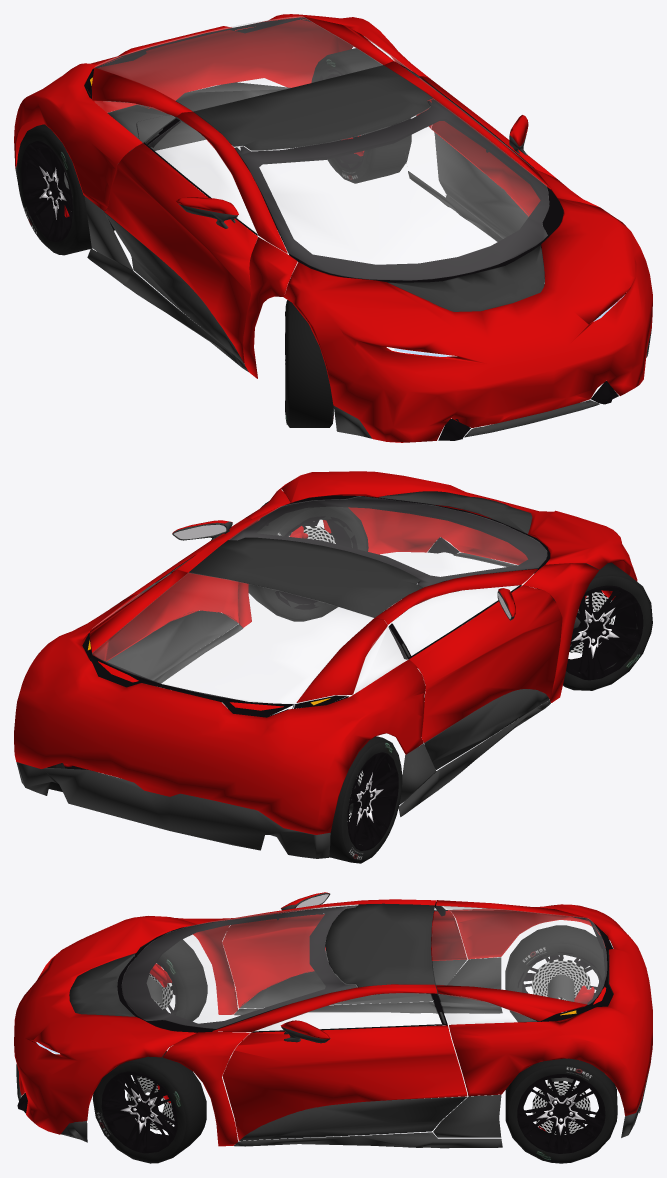
Rendered from verkehr.glb.
3 renders of one model, top to bottom at view 1: azimuth 30°, elevation 25°; view 2: azimuth 150°, elevation 25°; view 3: azimuth 270°, elevation 25°, orthographic. The views are drawn at different scales.
Parts seen in each view (by area): view 1: BodyHood, BodyWindshield, BodyRearPanelsColor1, BodyRearwindow, BodyDoorRColor1, BodyWindshieldGasket, BodyRoofPanel, BodyPanelsColor2, BodyPillars, BodyHoodTopgrill, object 42, BodyDoorLColor2 (+10 smaller); view 2: BodyRearPanelsColor1, BodyRearwindow, BodyWindshield, BodyPanelsColor2, BodyHood, BodyDoorRColor1, BodyRoofPanel, BodyPillars, BodyWindshieldGasket, WheelFrontRRim, BodyDoorLColor1, BodyDoorLColor2 (+10 smaller); view 3: BodyRearPanelsColor1, BodyWindshield, BodyDoorLColor1, BodyHood, BodyRearwindow, BodyPanelsColor2, BodyPillars, BodyRoofPanel, BodyDoorRColor1, BodyWindshieldGasket, BodyDoorLColor2, object 38 (+16 smaller).
Boxes of the visible parts, <box> form: BodyHood: <box>284,198,652,442</box>; BodyWindshield: <box>234,98,548,280</box>; BodyRearPanelsColor1: <box>14,14,435,211</box>; BodyRearwindow: <box>94,16,382,111</box>; BodyDoorRColor1: <box>104,143,257,363</box>; BodyWindshieldGasket: <box>234,99,563,282</box>; BodyRoofPanel: <box>194,65,432,150</box>; BodyPanelsColor2: <box>15,82,651,438</box>; BodyPillars: <box>177,61,599,378</box>; BodyHoodTopgrill: <box>388,245,544,311</box>; object 42: <box>285,300,333,427</box>; BodyDoorLColor2: <box>434,132,544,267</box>; BodyRearPanelsColor1: <box>14,569,425,834</box>; BodyRearwindow: <box>92,573,373,703</box>; BodyWindshield: <box>229,496,547,587</box>; BodyPanelsColor2: <box>16,552,550,858</box>; BodyHood: <box>277,471,637,600</box>; BodyDoorRColor1: <box>409,585,562,742</box>; BodyRoofPanel: <box>189,537,422,617</box>; BodyPillars: <box>172,489,598,702</box>; BodyWindshieldGasket: <box>229,495,550,587</box>; WheelFrontRRim: <box>566,585,643,680</box>; BodyDoorLColor1: <box>105,518,250,661</box>; BodyDoorLColor2: <box>107,610,238,684</box>; BodyRearPanelsColor1: <box>436,900,652,1115</box>; BodyWindshield: <box>122,904,357,1028</box>; BodyDoorLColor1: <box>222,1025,467,1140</box>; BodyHood: <box>14,916,196,1134</box>; BodyRearwindow: <box>432,905,606,1004</box>; BodyPanelsColor2: <box>16,957,651,1148</box>; BodyPillars: <box>162,899,437,1146</box>; BodyRoofPanel: <box>325,903,434,987</box>; BodyDoorRColor1: <box>222,910,467,1007</box>; BodyWindshieldGasket: <box>117,905,357,1032</box>; BodyDoorLColor2: <box>239,1096,466,1140</box>; object 38: <box>92,1051,206,1163</box>.
Size of the model in its own units: 2.54 by 1.15 by 4.35.
16 materials, 5 textured.
